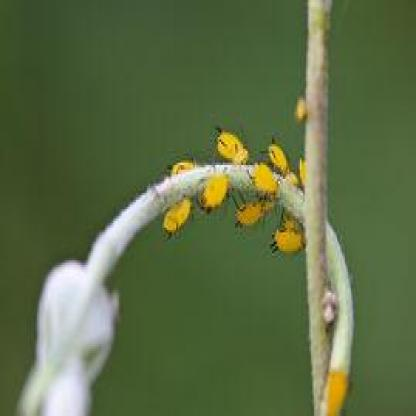aphid: (211, 118, 252, 170), (235, 183, 280, 230), (272, 206, 305, 262), (199, 163, 230, 219), (247, 155, 284, 199), (163, 193, 195, 239), (167, 152, 198, 182), (265, 141, 290, 178)
